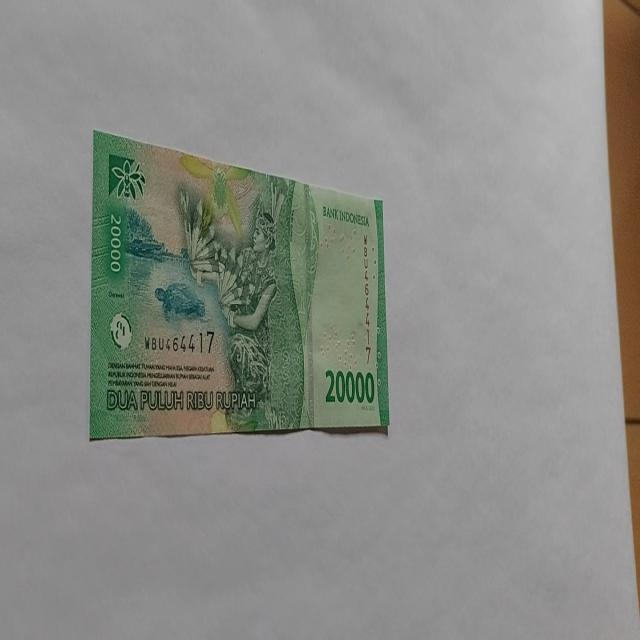dua puluh ribu rupiah: (89, 128, 390, 442), (177, 168, 318, 431)
